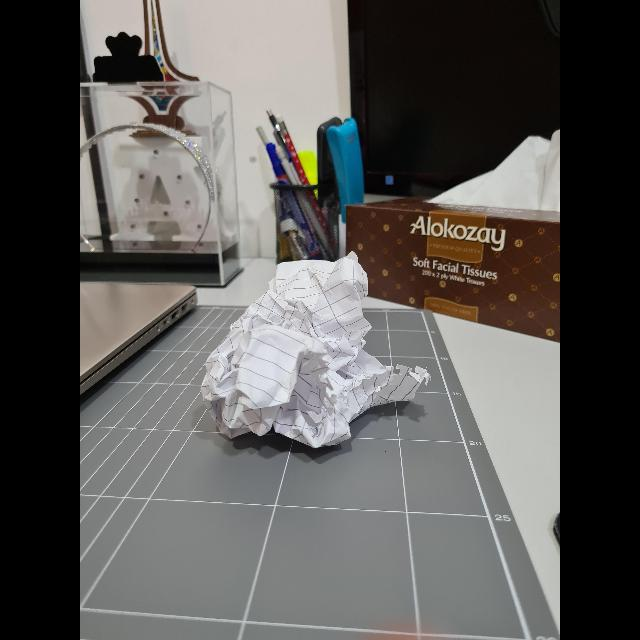scrap_paper: (206, 253, 422, 454)
